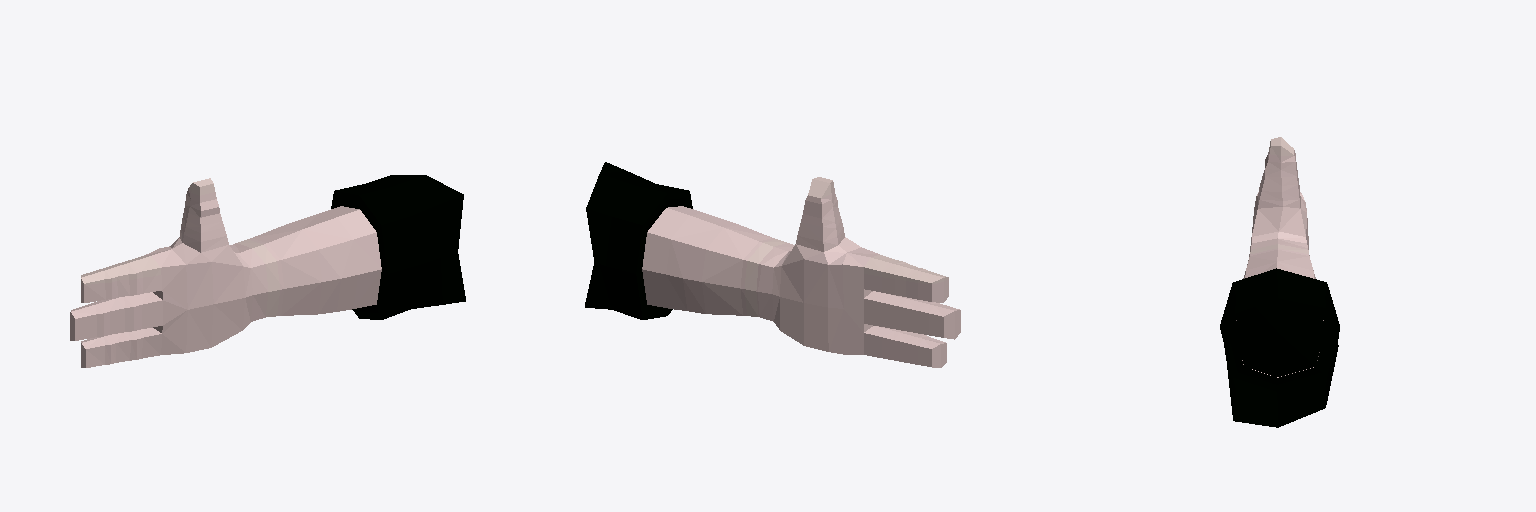
3 renders of one model, left to right at view 1: azimuth 30°, elevation 25°; view 2: azimuth 150°, elevation 25°; view 3: azimuth 270°, elevation 25°, orthographic.
Visible parts, largest first — view 1: Mesh_0929.rip_noesis_meshnode_0000_Mesh_0929.rip.003_Material.01; view 2: Mesh_0929.rip_noesis_meshnode_0000_Mesh_0929.rip.003_Material.01; view 3: Mesh_0929.rip_noesis_meshnode_0000_Mesh_0929.rip.003_Material.01.
Boxes of the visible parts, x1=… form: Mesh_0929.rip_noesis_meshnode_0000_Mesh_0929.rip.003_Material.01: x1=70, y1=175, x2=465, y2=367; Mesh_0929.rip_noesis_meshnode_0000_Mesh_0929.rip.003_Material.01: x1=585, y1=162, x2=960, y2=367; Mesh_0929.rip_noesis_meshnode_0000_Mesh_0929.rip.003_Material.01: x1=1220, y1=137, x2=1339, y2=427.
Bounding box in the file's own units: 1.15 × 0.5203 × 0.3214.
Materials: 1 (1 with a texture image).